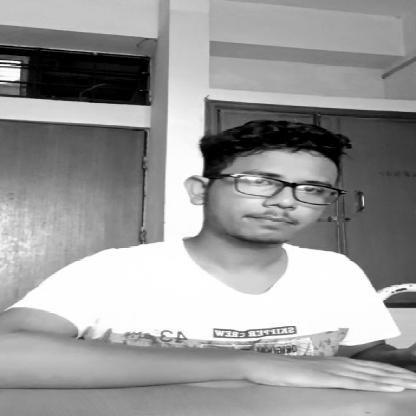Normal: (181, 111, 350, 238)
